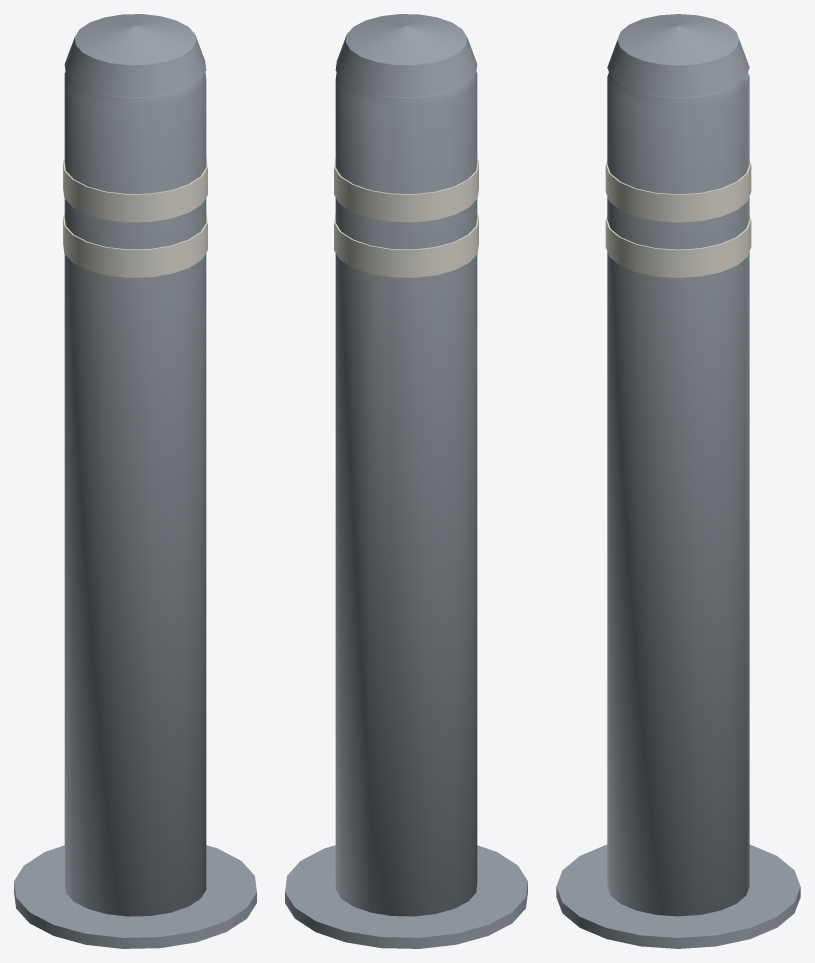
Rendered from bollard.glb.
The picture shows the model from 3 angles, left to right: view 1: azimuth 30°, elevation 25°; view 2: azimuth 150°, elevation 25°; view 3: azimuth 270°, elevation 25°; orthographic projection.
Visible parts, largest first — view 1: bollard; view 2: bollard; view 3: bollard.
Part boxes in pixels (x1,y1,x2,y2): bollard: [14, 14, 256, 948]; bollard: [285, 14, 527, 948]; bollard: [556, 14, 800, 948].
Size of the model in its own units: 0.24 by 0.945 by 0.24.
Materials: 1 (1 with a texture image).
